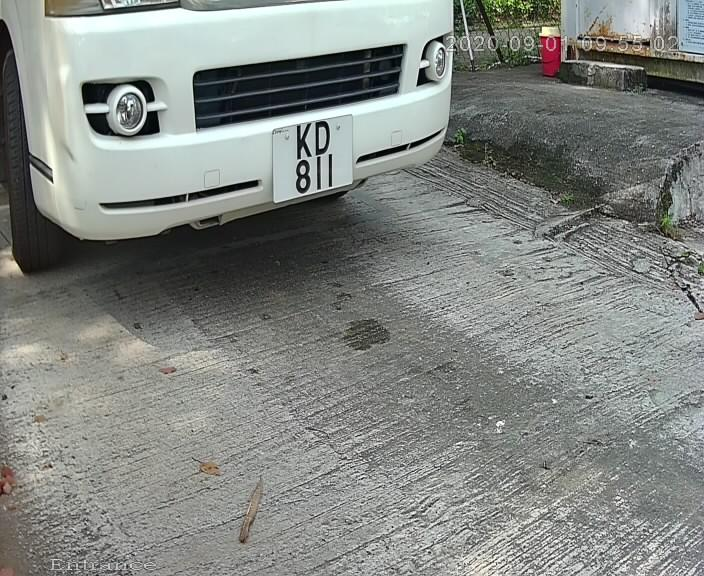License Plate: (261, 101, 356, 211)
